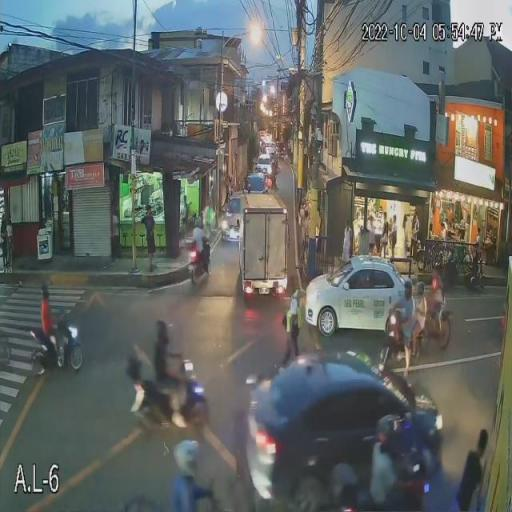helmet: (173, 439, 198, 472), (376, 415, 398, 440), (154, 323, 170, 343), (402, 282, 415, 299), (40, 284, 52, 300), (415, 282, 424, 296), (194, 218, 202, 228)
motorcycle: (124, 355, 210, 440), (28, 321, 84, 375), (384, 312, 421, 374), (420, 300, 453, 351), (186, 239, 212, 288)
rider: (369, 414, 413, 512), (152, 320, 188, 414), (168, 439, 210, 512), (389, 286, 421, 346), (39, 282, 64, 354), (428, 270, 449, 322), (412, 290, 428, 354), (190, 219, 208, 262)
